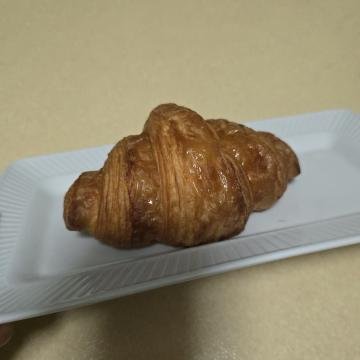croissant: (93, 50, 264, 303)
